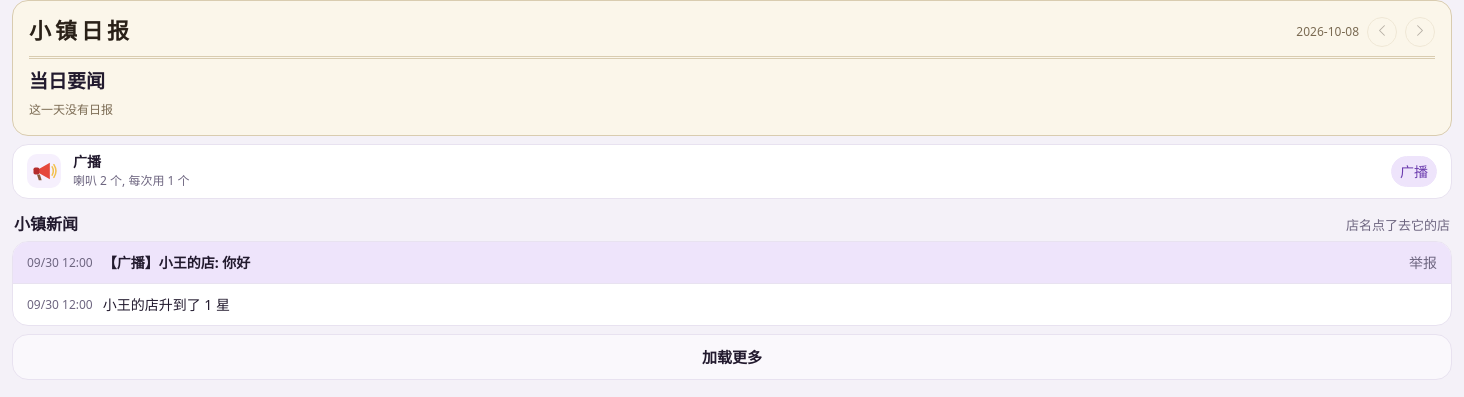
Test case: NewsPanel › 列出新闻，广播醒目；"加载更多"带上最后一条的 id
expect the number of elements with test id "news-row" is 2: met, box [13,242,1451,283]; [13,283,1451,325]
expect the element with test id "news-row" shows "小王的店: 你好": met, box [13,242,1451,283]
Step 1. Click the button with test id "news-more" → (732, 357), box [12,334,1452,380]
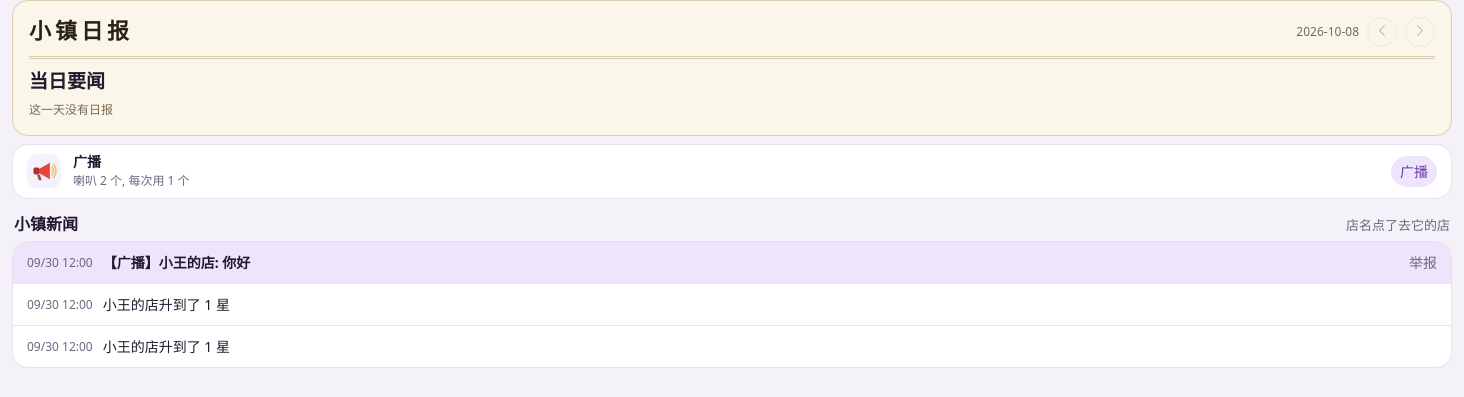
expect the number of elements with test id "news-row" is 3: met, box [13,242,1451,283]; [13,283,1451,325]; [13,325,1451,367]
